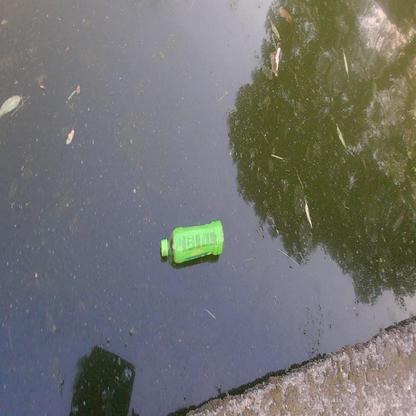plastic bottle: (160, 220, 223, 263)
